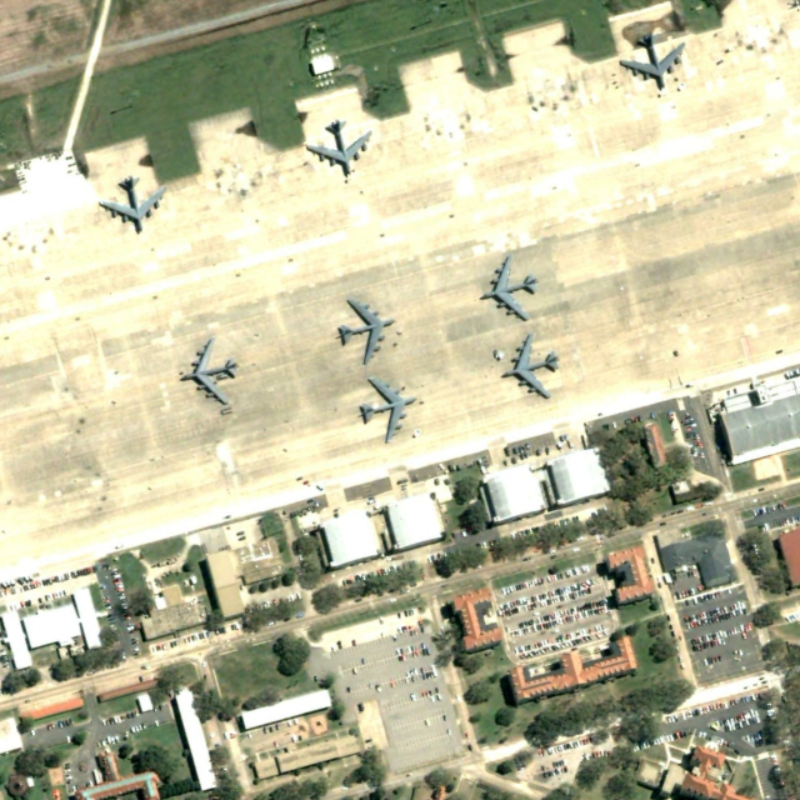A8: (176, 333, 241, 407), (94, 172, 169, 234), (617, 30, 689, 93), (356, 374, 418, 446), (304, 117, 375, 179), (499, 332, 561, 402), (479, 252, 540, 322), (337, 297, 397, 367)
